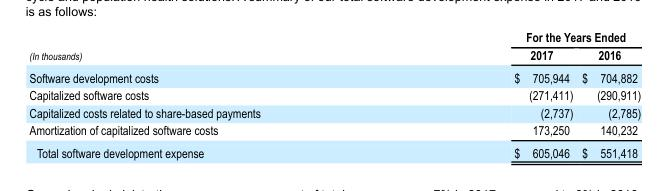table: (28, 29, 640, 159)
table column: (28, 29, 386, 159), (386, 29, 576, 159), (576, 29, 640, 159)
table column header: (28, 29, 640, 65)
table row: (28, 45, 640, 65), (28, 65, 640, 85), (28, 121, 640, 141), (28, 85, 640, 103), (28, 103, 640, 121), (28, 141, 640, 159), (28, 29, 640, 45)
table spanning cell: (28, 29, 386, 65), (386, 29, 640, 45)
